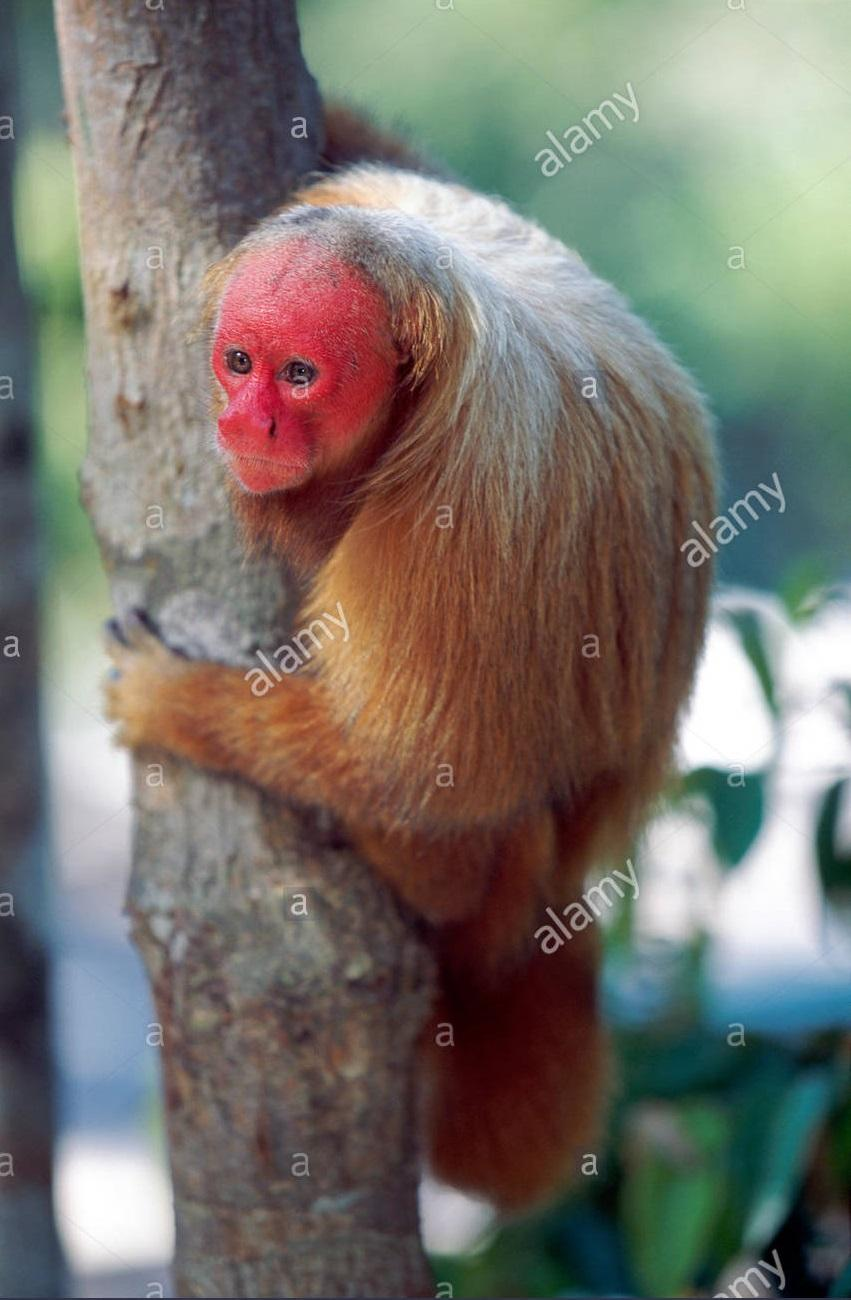monkey: (115, 162, 723, 1266)
